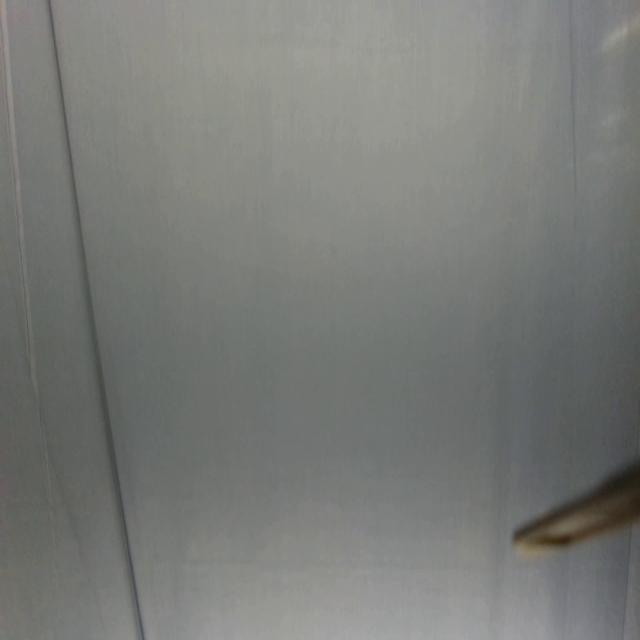crease: (48, 0, 145, 640), (0, 0, 55, 553), (566, 0, 580, 186), (619, 525, 634, 640)
